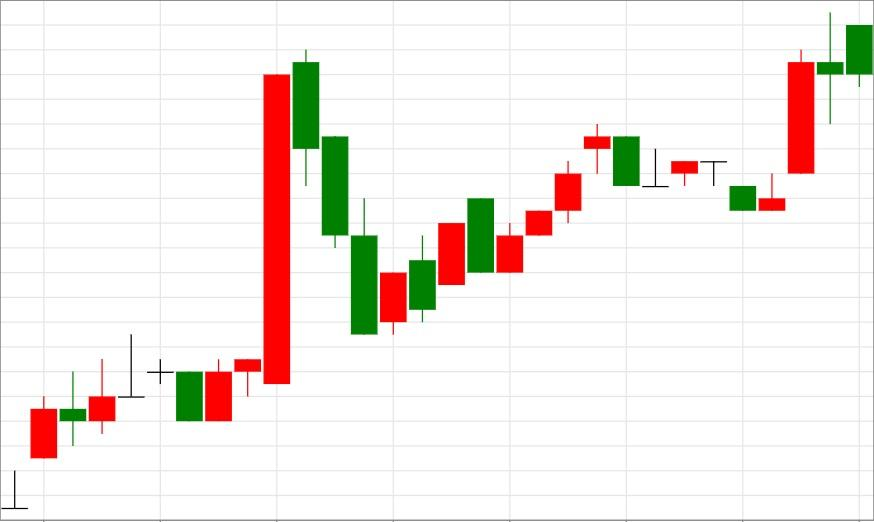three_black_crows_fall: (176, 48, 378, 423)
